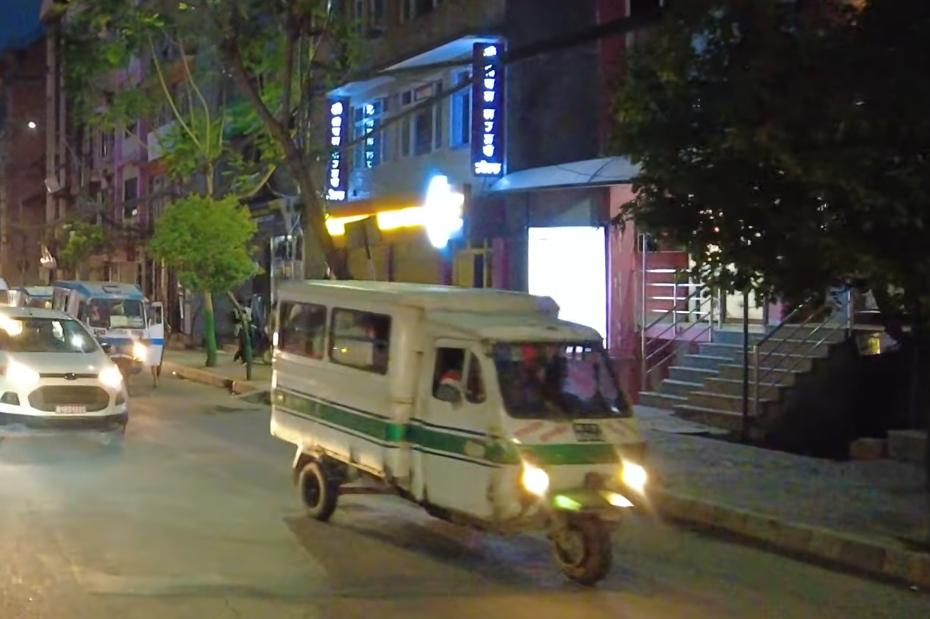car: (0, 303, 132, 456)
tempo: (269, 268, 656, 594), (36, 275, 167, 378)
